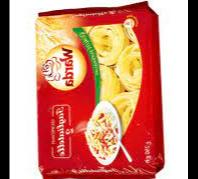Tagliatelle: (35, 0, 164, 179)
